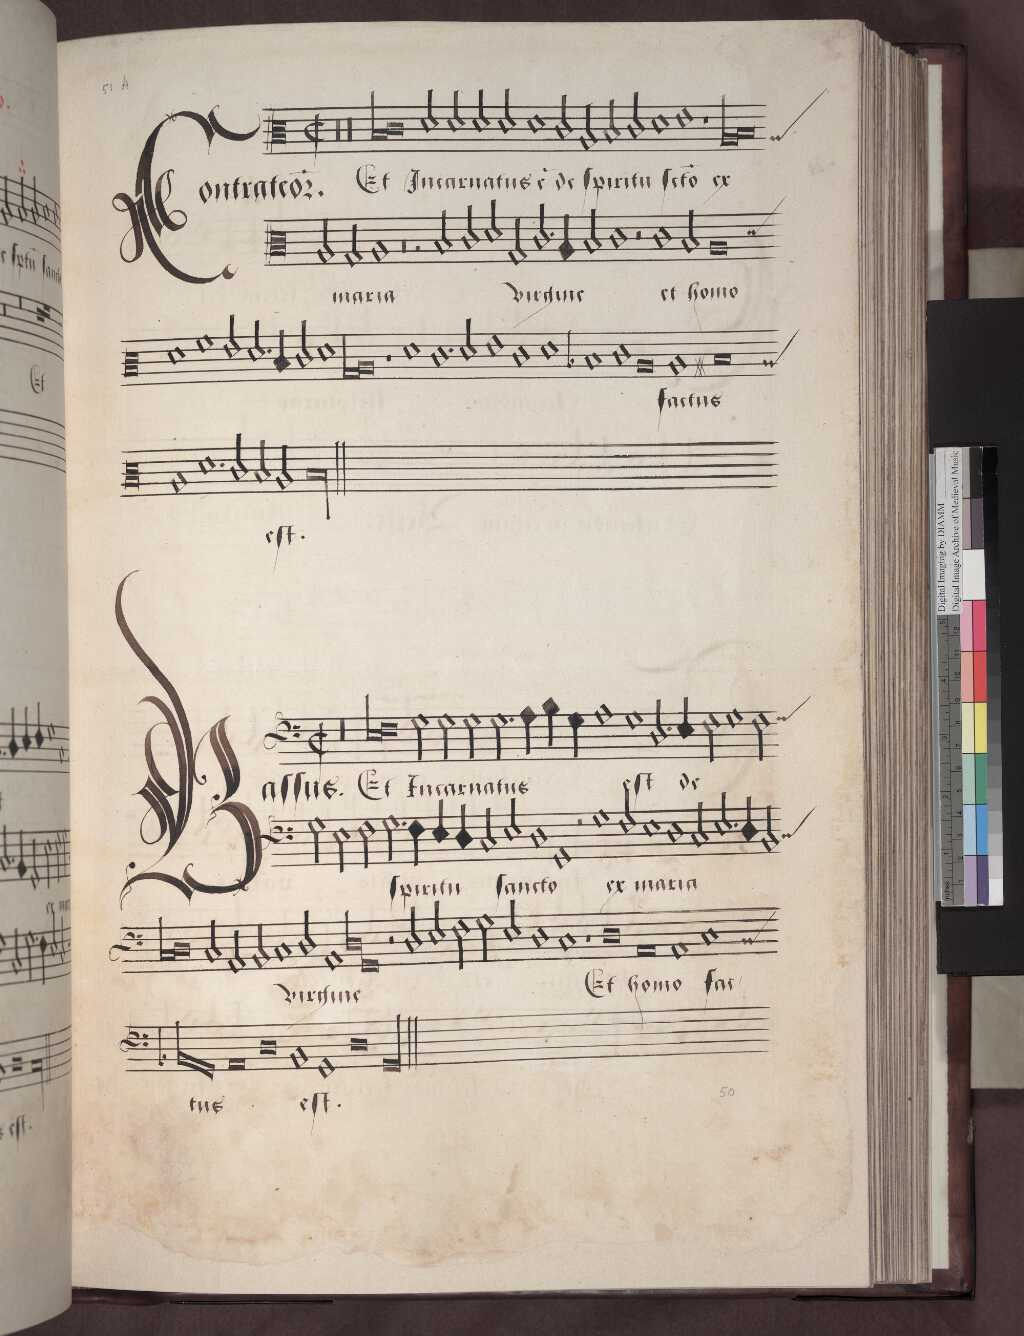breve rest: (395, 207, 411, 273)
breve_9: (703, 228, 733, 267)
c clef_7: (258, 211, 293, 274)
custos_6: (739, 202, 776, 248)
minim rest: (410, 205, 424, 272), (630, 212, 645, 262)
minim_10: (509, 201, 532, 261), (343, 212, 366, 272)
minim_6: (482, 191, 503, 250)
minim_7: (458, 194, 481, 258), (530, 193, 550, 257)
minim_8: (432, 199, 456, 262), (679, 197, 702, 260), (581, 198, 603, 261)
minim_9: (313, 207, 336, 270)
point: (544, 221, 558, 243)
semibreve_7: (648, 214, 675, 259), (606, 216, 631, 259)
semibreve_9: (367, 229, 392, 271)
semiminim_9: (556, 207, 577, 270)
